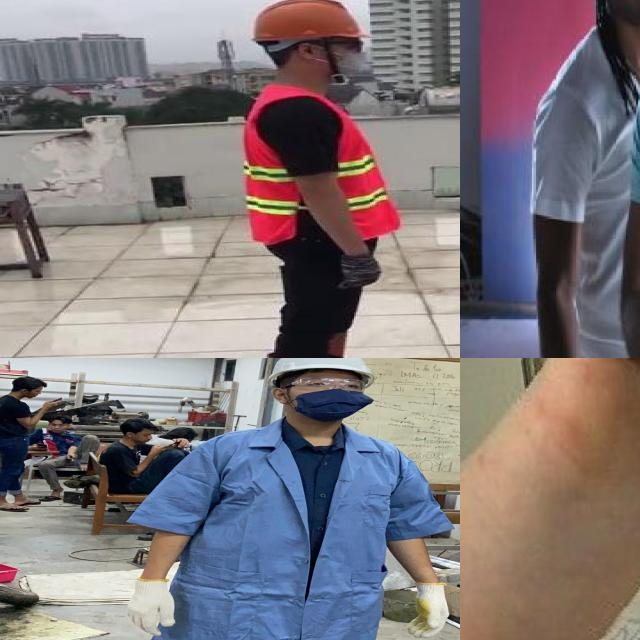Barefoots: (460, 358, 640, 640)
boots: (279, 328, 393, 358)
face_mask: (286, 374, 369, 419), (317, 36, 371, 78)
face_nomask: (140, 430, 155, 443), (28, 388, 45, 399), (49, 422, 66, 432)
glasses: (278, 376, 368, 396)
hand_glove: (116, 576, 182, 639), (401, 578, 456, 636), (334, 251, 386, 291)
hand_noglove: (149, 443, 170, 454), (41, 399, 63, 409), (29, 442, 49, 452), (172, 437, 190, 448), (63, 453, 80, 461)
head_helmet: (251, 0, 365, 44), (264, 358, 376, 379)
head_nohelmet: (122, 417, 156, 432), (15, 374, 47, 389), (48, 414, 72, 423)
person: (105, 358, 456, 640), (233, 0, 412, 358), (525, 0, 640, 358), (0, 373, 52, 515), (24, 414, 104, 500), (102, 418, 188, 494)
vest: (242, 83, 400, 244)
